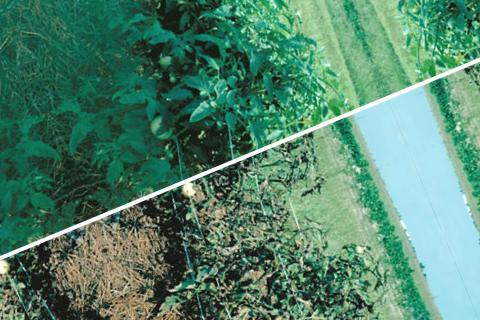Tomato leaf bacterial spot: (179, 96, 221, 131), (189, 22, 231, 56), (113, 83, 153, 118), (238, 47, 271, 78), (139, 21, 172, 50)
